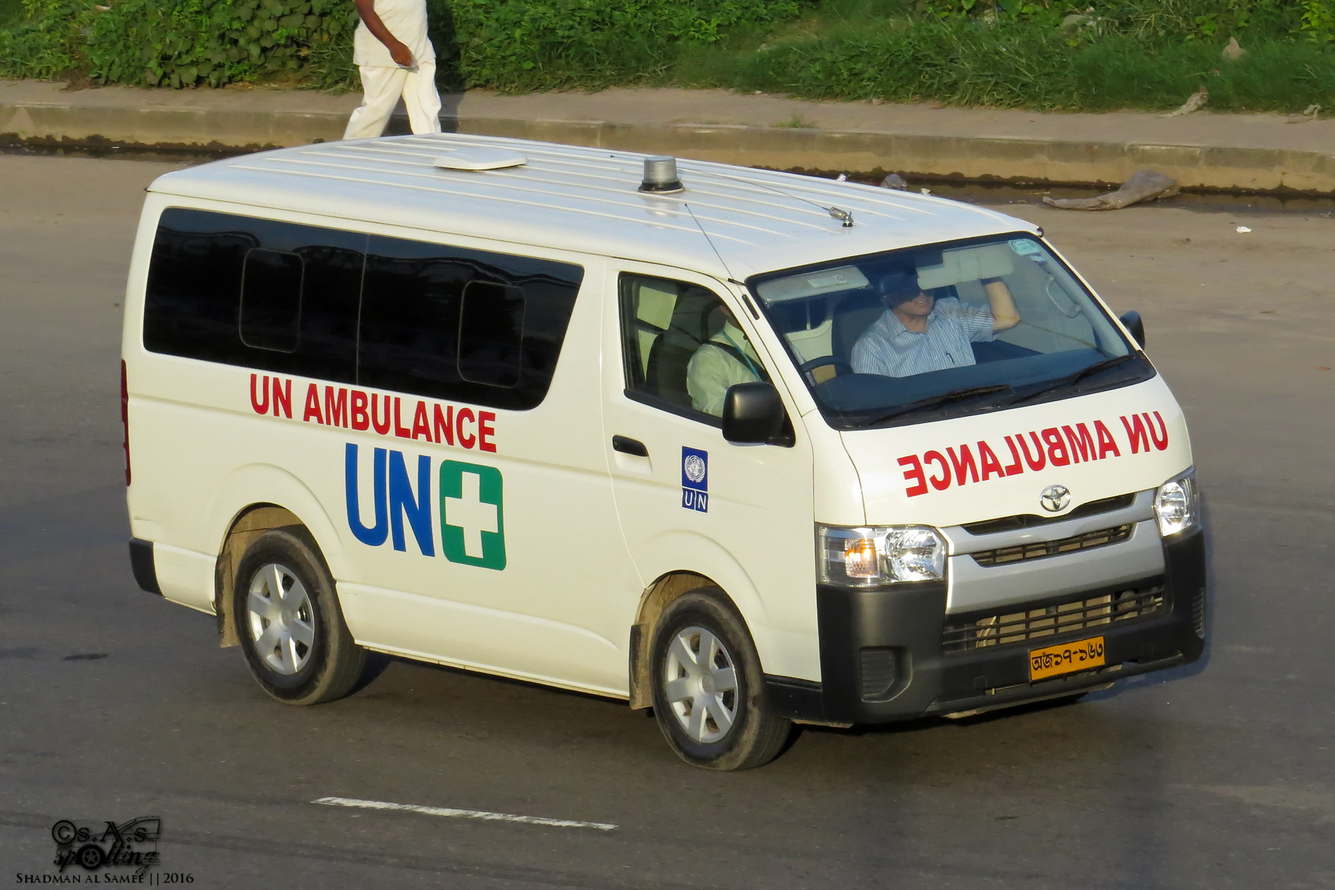Ambulance: (113, 102, 1232, 805)
